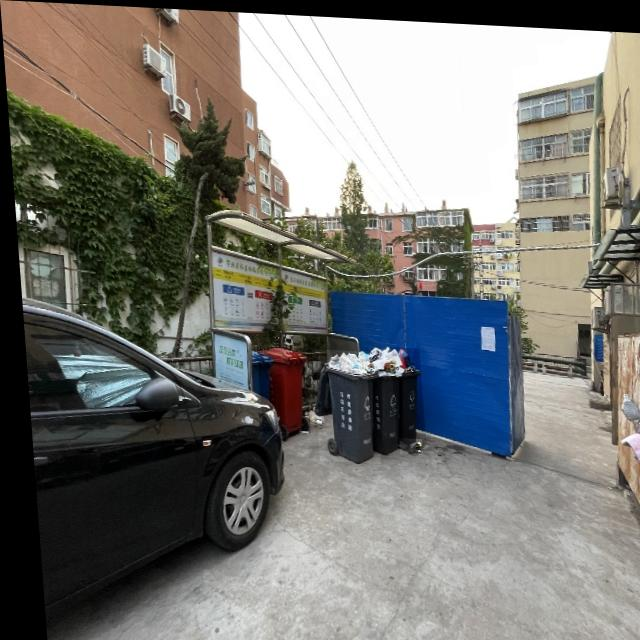garbage: (296, 403, 319, 421), (392, 434, 416, 451)
garbage_bin: (251, 343, 305, 430), (244, 346, 270, 395)
overflow: (306, 346, 374, 460), (361, 341, 401, 451), (385, 343, 420, 440)
